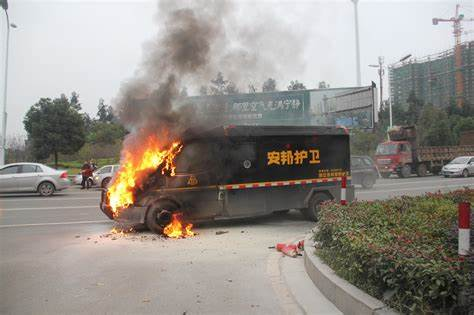fire: (106, 122, 178, 206), (159, 211, 202, 240)
